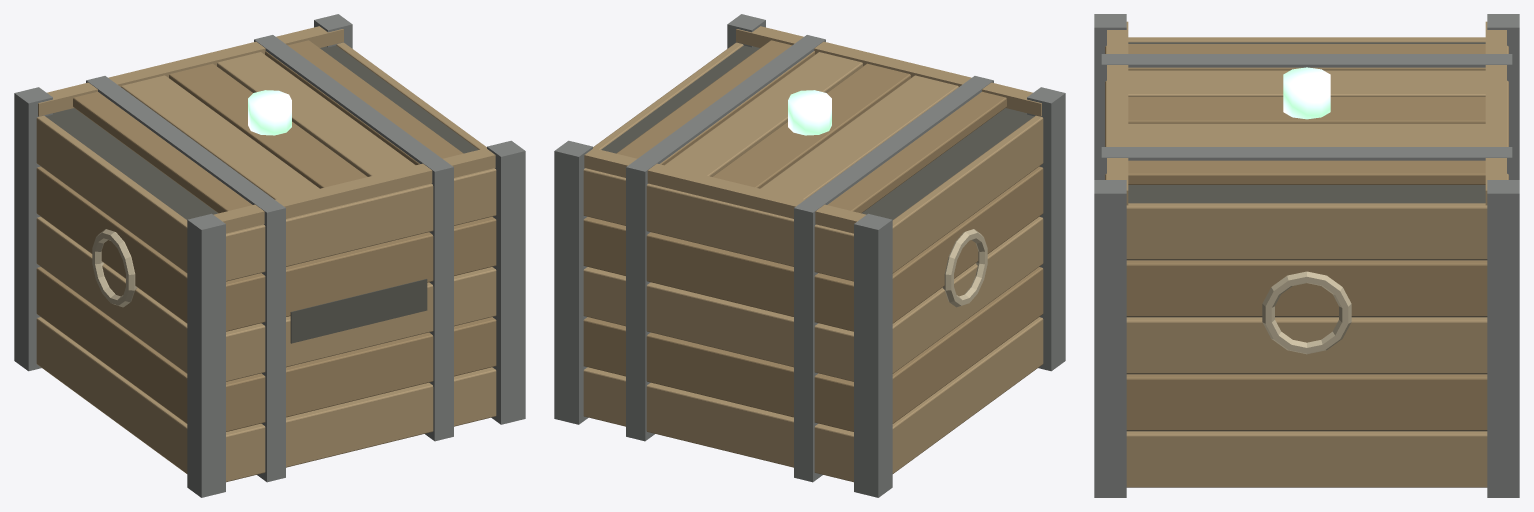
File: care-package.glb
3 views of the same model, side by side, from view 1: azimuth 30°, elevation 25°; view 2: azimuth 150°, elevation 25°; view 3: azimuth 270°, elevation 25° (orthographic). The views are drawn at different scales.
Parts seen in each view (by area): view 1: care_package; view 2: care_package; view 3: care_package.
Part boxes in pixels (<box>): care_package: <box>14,14,525,497</box>; care_package: <box>554,14,1065,497</box>; care_package: <box>1094,14,1519,497</box>.
Size of the model in its own units: 1.19 by 1.03 by 1.19.
